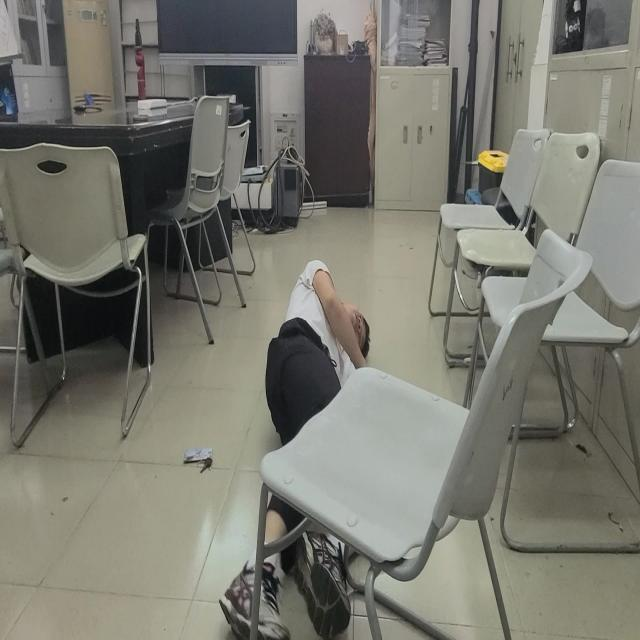Fall-Detected: (213, 259, 380, 640)
